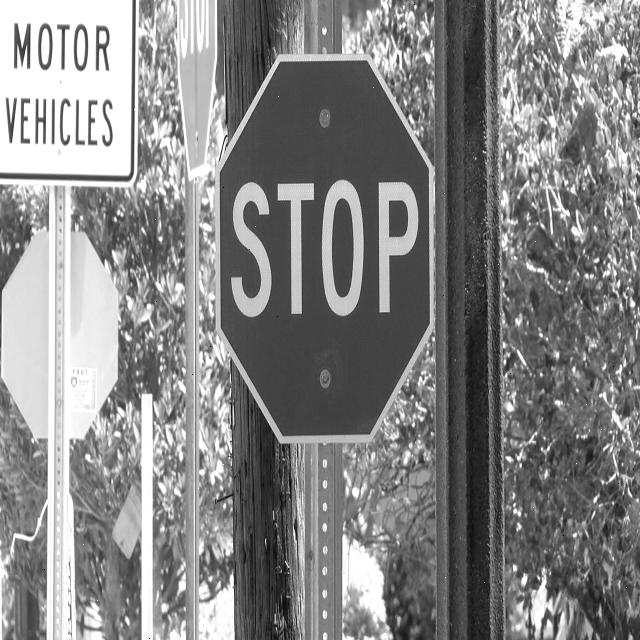Stop-sign: (205, 38, 450, 461)
